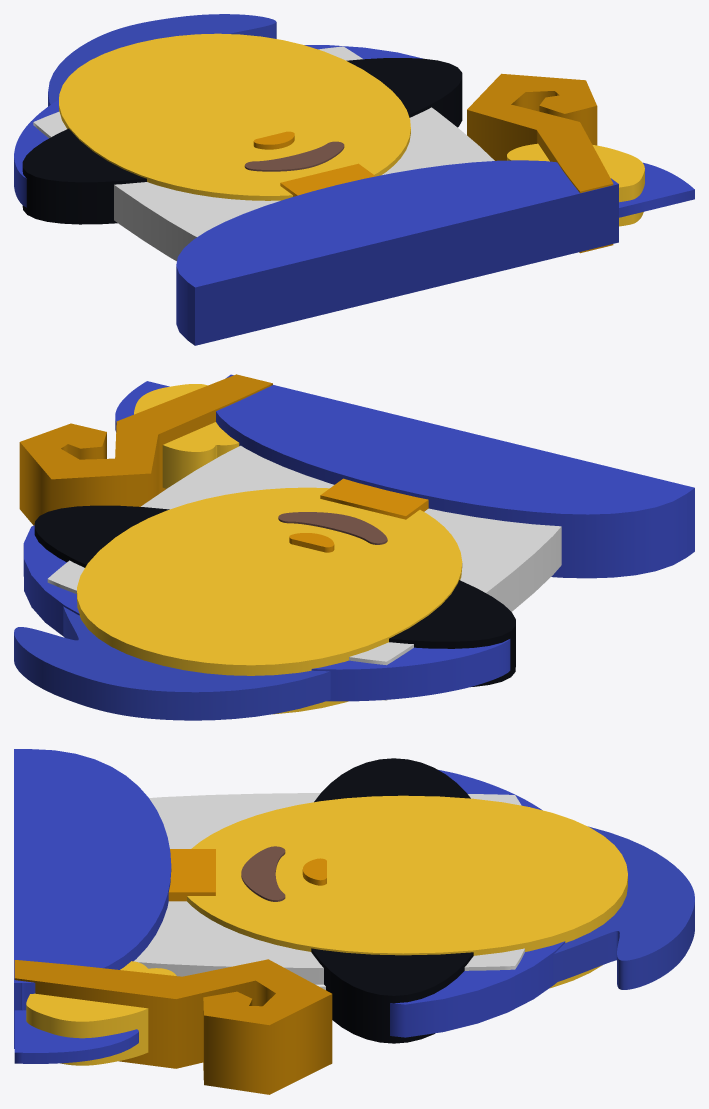
File: emoji_u1f9d9_200d_2640.glb
3 views of the same model, one above another, from view 1: azimuth 30°, elevation 25°; view 2: azimuth 150°, elevation 25°; view 3: azimuth 270°, elevation 25° (orthographic). The views are drawn at different scales.
Parts seen in each view (by area): view 1: emoji_u1f9d9_200d_2640; view 2: emoji_u1f9d9_200d_2640; view 3: emoji_u1f9d9_200d_2640.
Boxes of the visible parts, left/top/right/bottom form: emoji_u1f9d9_200d_2640: left=14, top=14, right=694, bottom=345; emoji_u1f9d9_200d_2640: left=14, top=374, right=694, bottom=720; emoji_u1f9d9_200d_2640: left=14, top=749, right=694, bottom=1094.
Bounding box in the file's own units: 0.0325 × 0.0038 × 0.0337.
